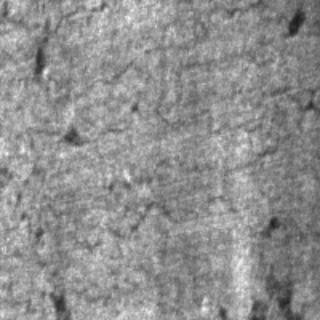crazing: (163, 37, 307, 179), (0, 39, 146, 149), (67, 156, 209, 248)
